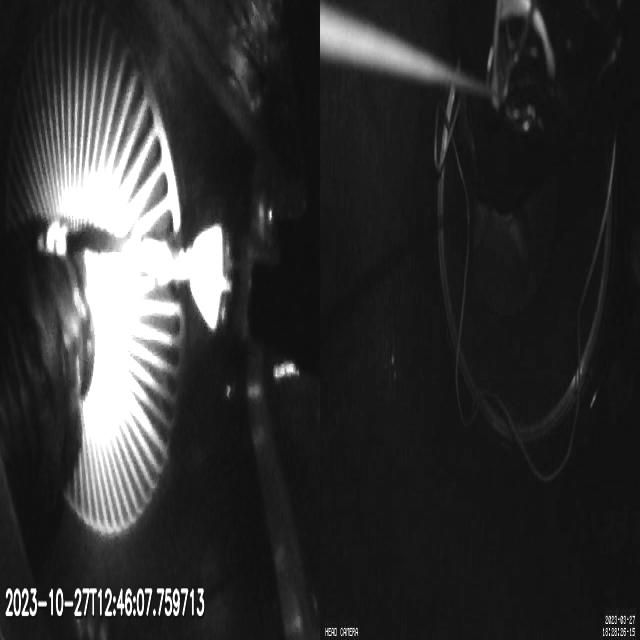head: (191, 226, 284, 338)
white-dots: (37, 221, 69, 258)
